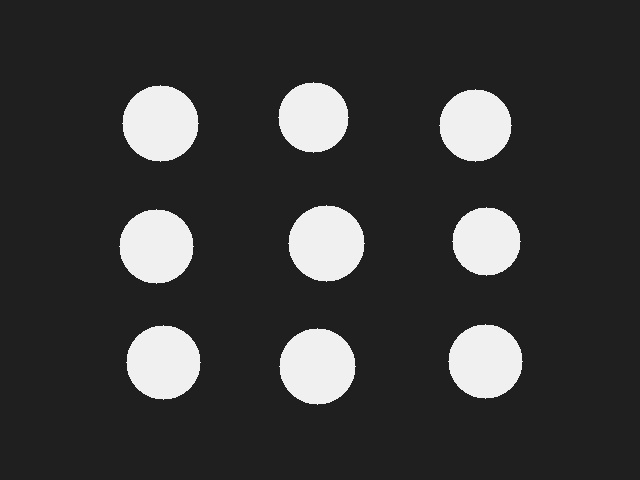hole: (122, 85, 198, 161), (288, 205, 364, 281), (279, 328, 355, 404), (119, 209, 193, 283), (126, 325, 200, 399), (448, 324, 522, 398), (439, 89, 511, 161), (278, 82, 348, 152), (452, 207, 520, 275)
